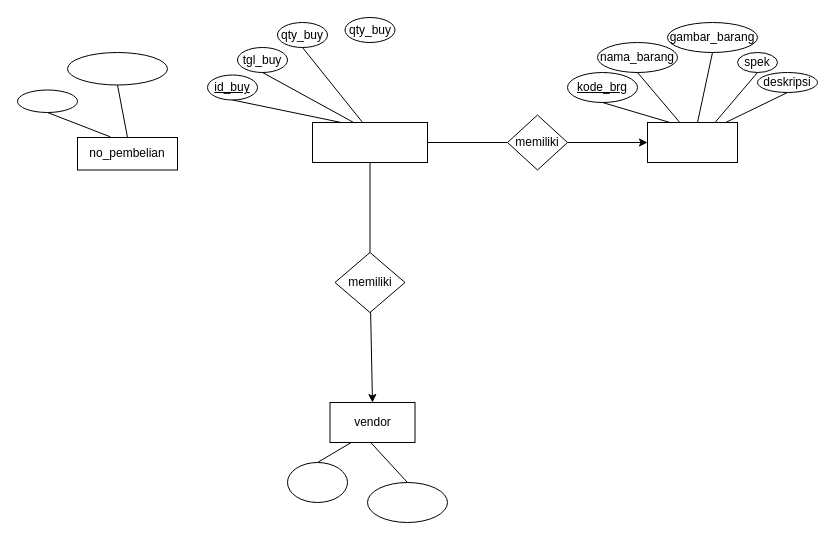
This 835x540 diagram has some shape labels left out. The box of each missing label's shape, as (x1, y1, x2, y2) in pixels:
barang: (646, 122, 738, 162)
id_nobuy: (16, 89, 78, 112)
id_vendor: (286, 462, 348, 502)
kode_pembelian: (66, 52, 168, 85)
nama_vendor: (366, 482, 448, 522)
pembelian_barang: (312, 122, 428, 162)
